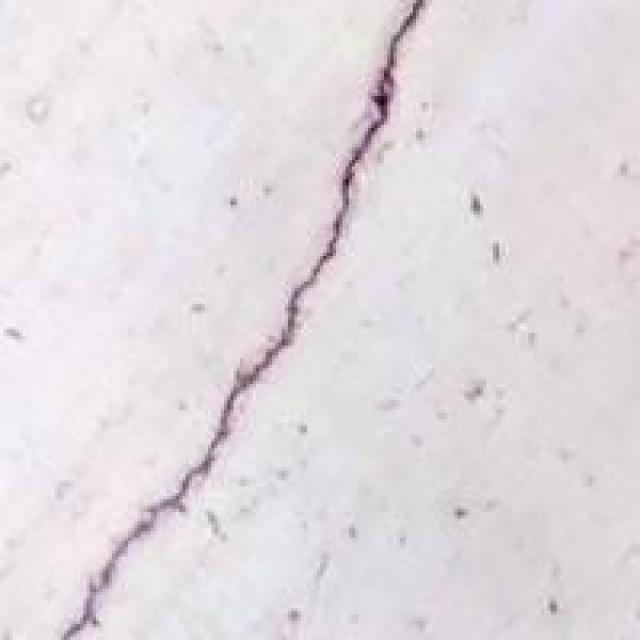crack: (13, 13, 454, 637)
